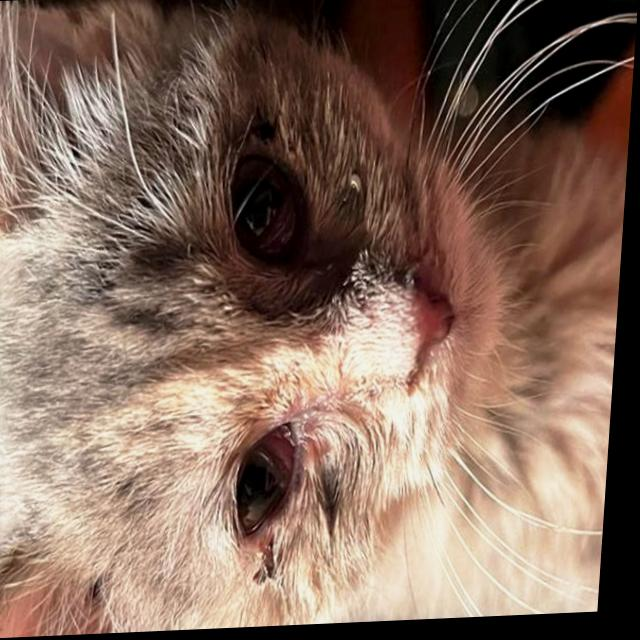eye_infection: (236, 421, 302, 537), (234, 151, 302, 259)
